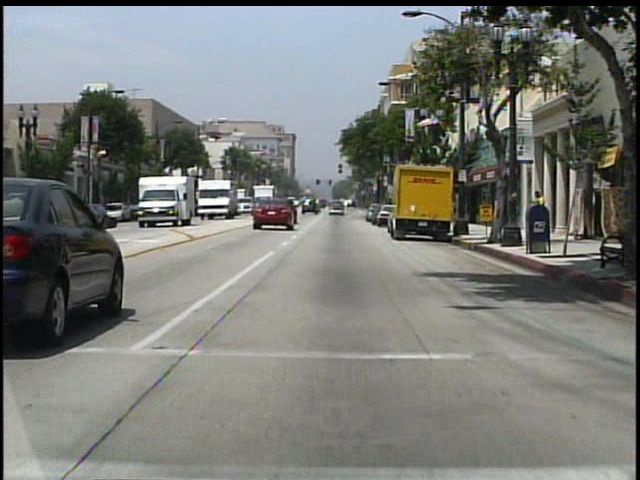person: (530, 189, 547, 237)
